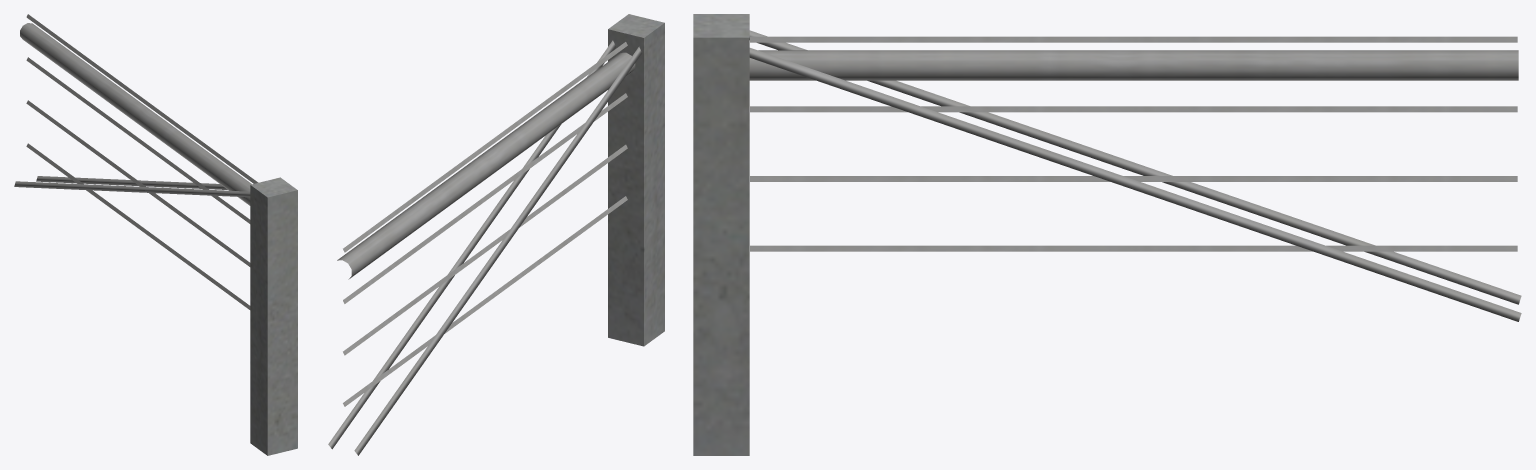
File: farm-fence-end-TopToBottomStay-cbj_LOD00.gltf
3 views of the same model, side by side, from view 1: azimuth 30°, elevation 25°; view 2: azimuth 150°, elevation 25°; view 3: azimuth 270°, elevation 25° (orthographic). The views are drawn at different scales.
Parts seen in each view (by area): view 1: fence; view 2: fence; view 3: fence.
Boxes of the visible parts, x1,y1,x2,y2 form: fence: (14, 14, 297, 455); fence: (328, 14, 664, 455); fence: (693, 14, 1521, 455).
Size of what is drawn, in the model's own units: 0.22 by 1.8 by 3.23.
